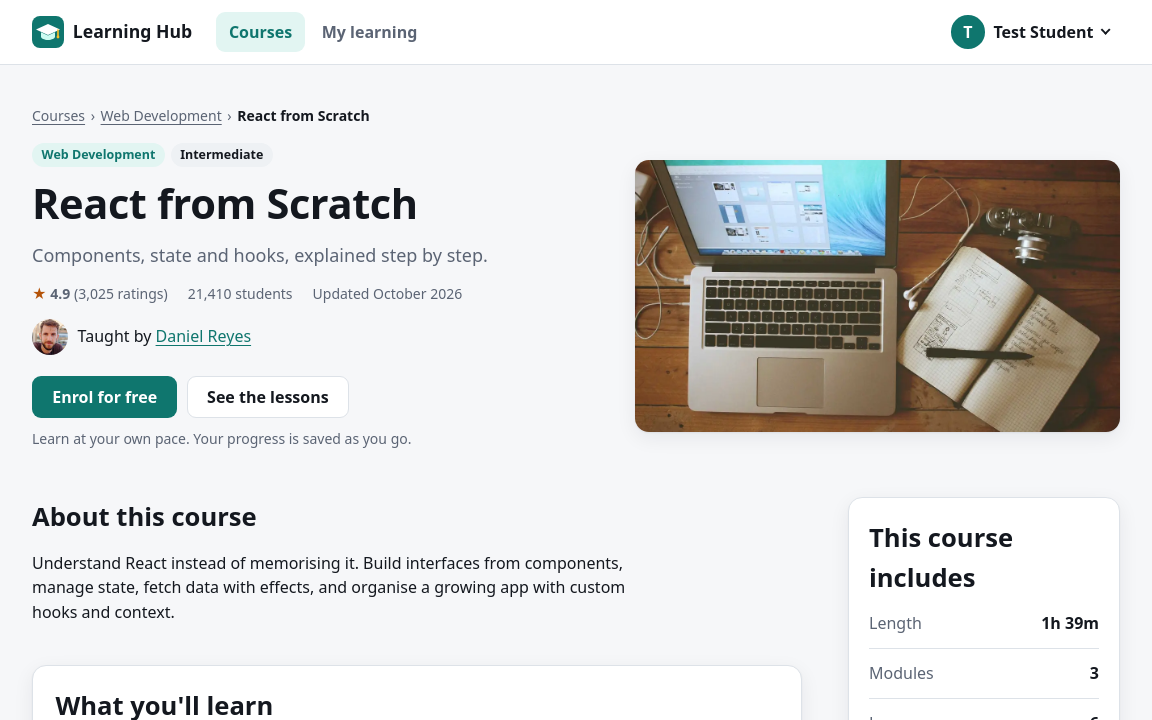
Test: learning › enrols, starts a course and tracks progress
Click the button "Enrol for free": click(105, 397) [32,376,177,418]
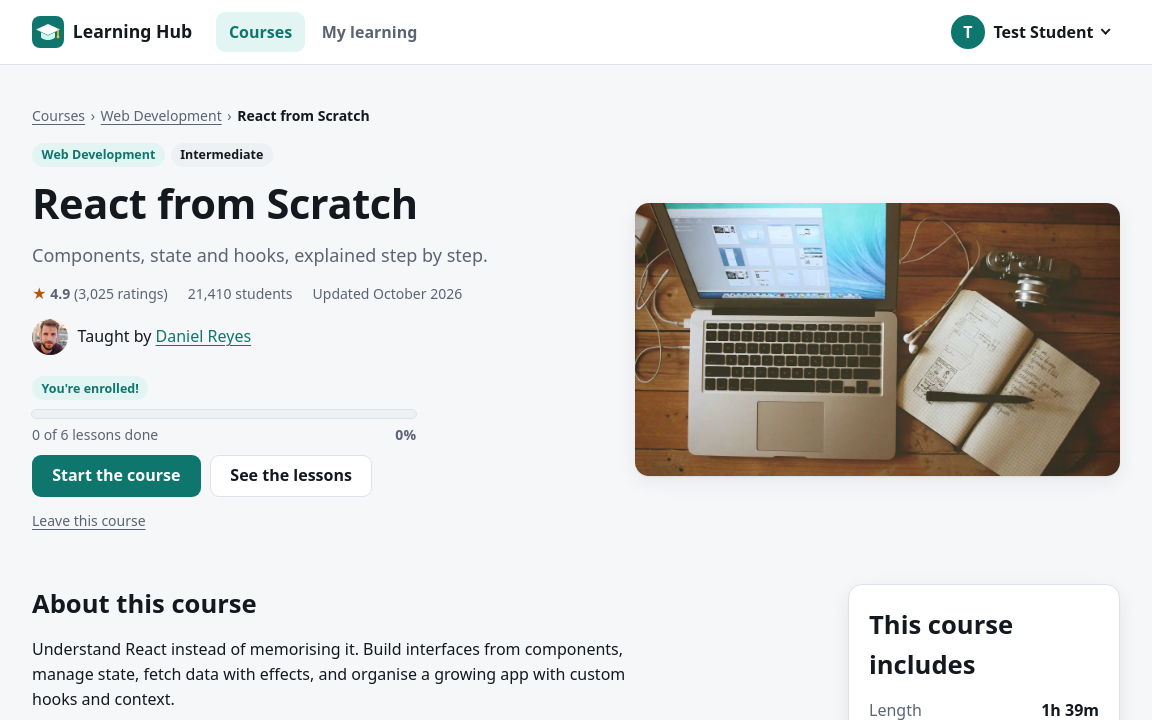
Result: the text "You're enrolled!" is shown at [32,376,148,400]
Click the link "Start the course": click(116, 476) [32,455,201,497]
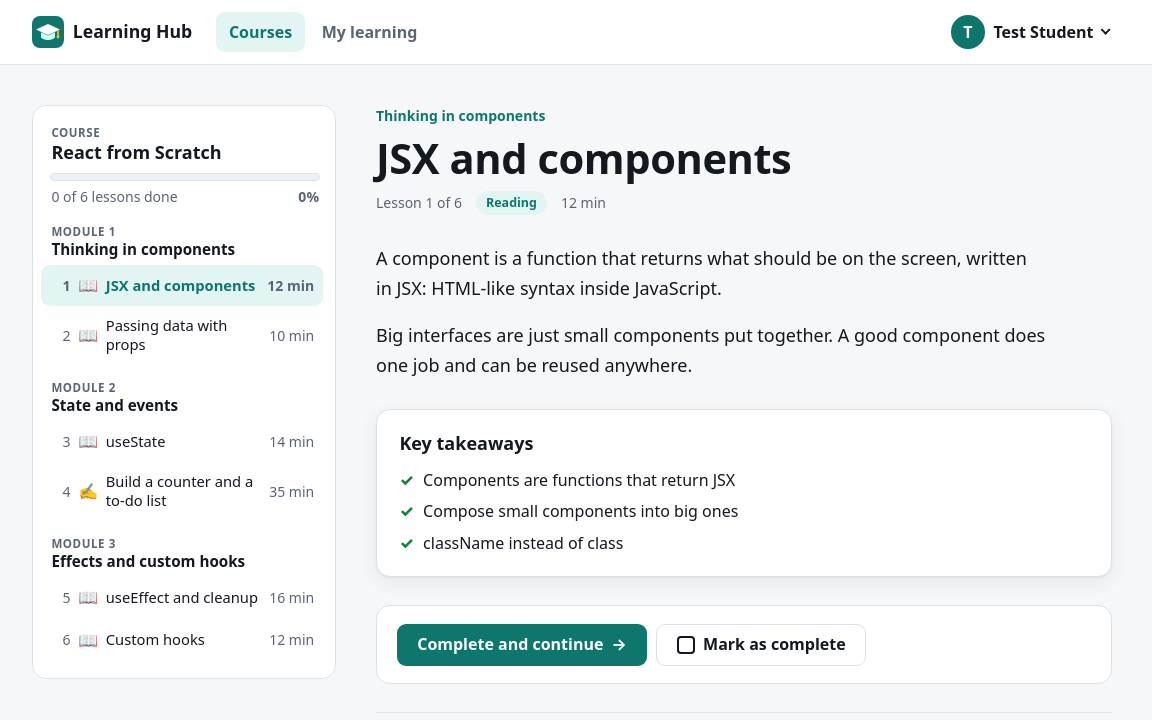
Result: the heading "JSX and components" is shown at [376,130,791,186]
Click the button "Mark as complete": click(761, 645) [656,624,866,666]
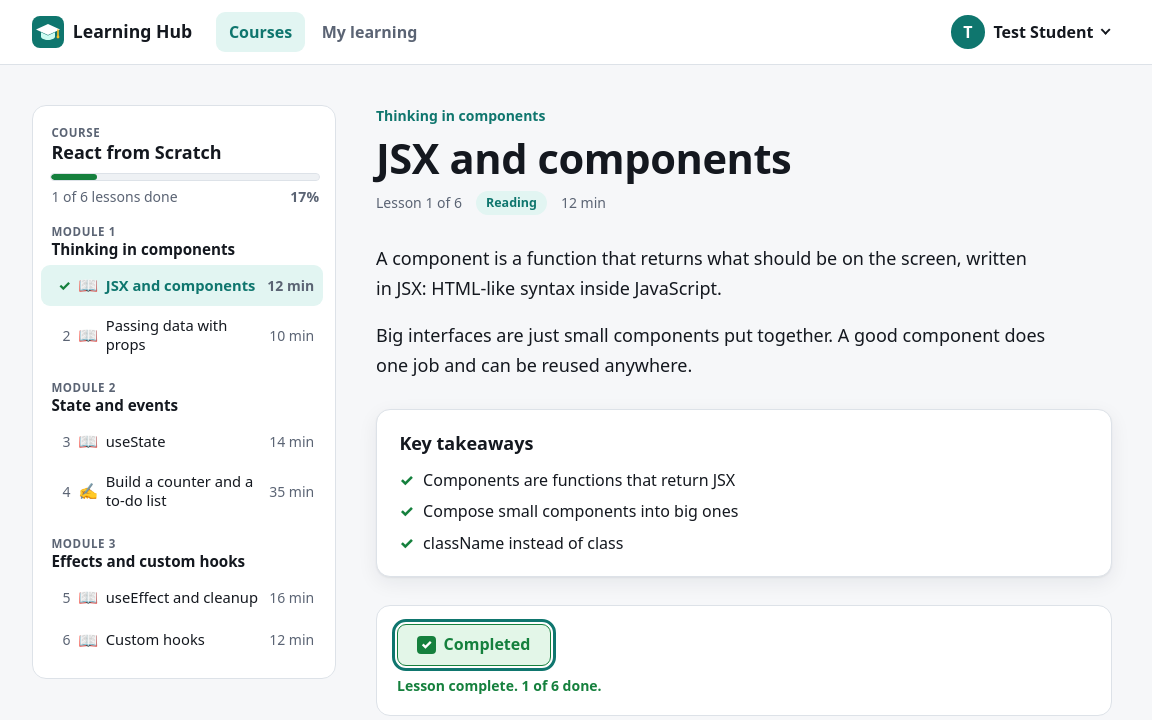
Result: the button named "Mark as complete" shows "Completed" at [397,624,551,666]
